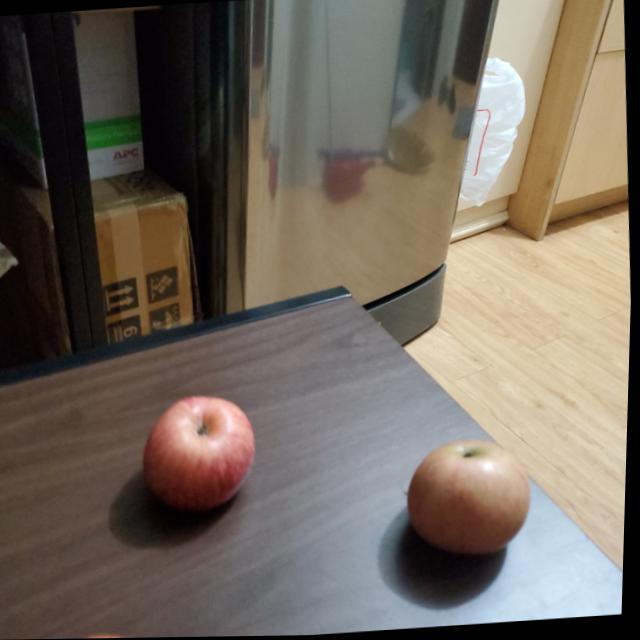apple: (408, 440, 541, 563), (145, 392, 264, 513), (34, 627, 170, 639)
